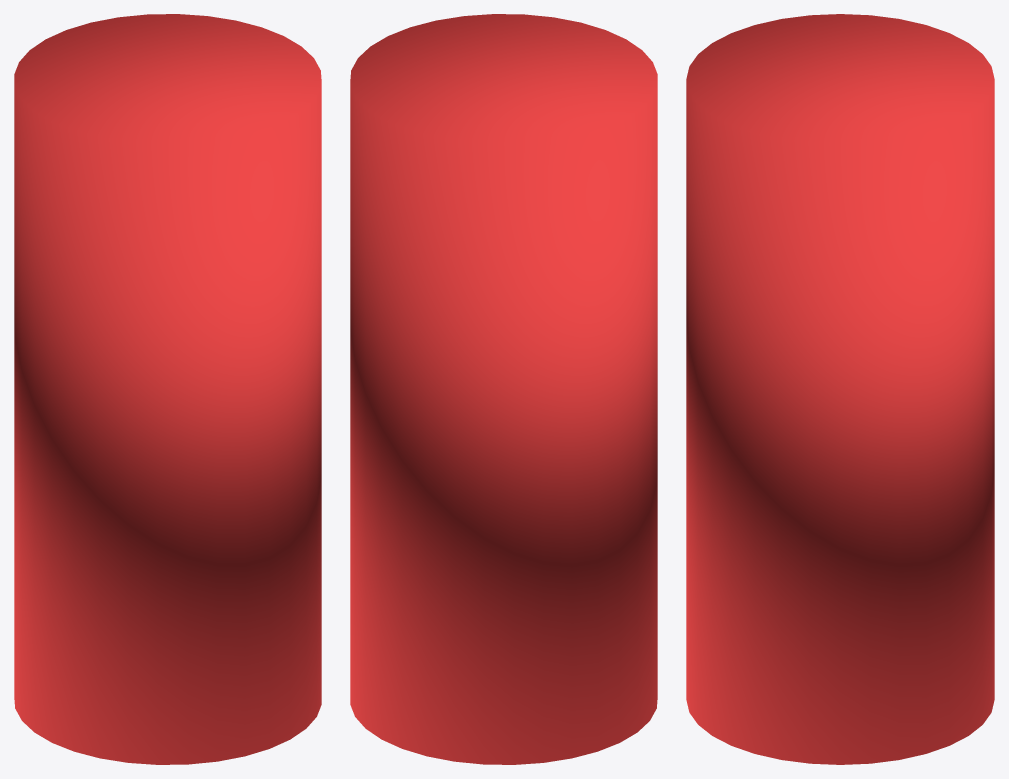
The model's file is SEDAN_CoilSpring_RL.glb.
The picture shows the model from 3 angles, left to right: view 1: azimuth 30°, elevation 25°; view 2: azimuth 150°, elevation 25°; view 3: azimuth 270°, elevation 25°; orthographic projection.
Visible parts, largest first — view 1: SEDAN_CoilSpring_RL; view 2: SEDAN_CoilSpring_RL; view 3: SEDAN_CoilSpring_RL.
Boxes of the visible parts, x1,y1,x2,y2 form: SEDAN_CoilSpring_RL: (14, 14, 321, 764); SEDAN_CoilSpring_RL: (350, 14, 657, 764); SEDAN_CoilSpring_RL: (686, 14, 994, 764).
Bounding box in the file's own units: 0.09 × 0.2 × 0.09.
